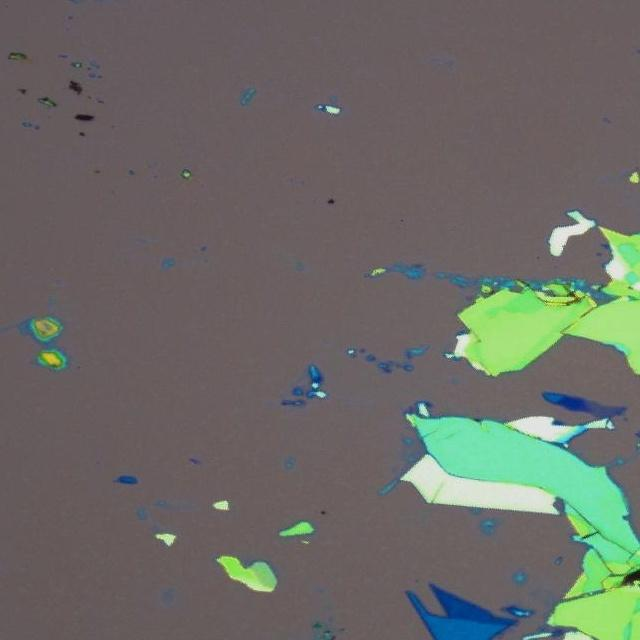monolayer-eWW4: (585, 399, 621, 418)
